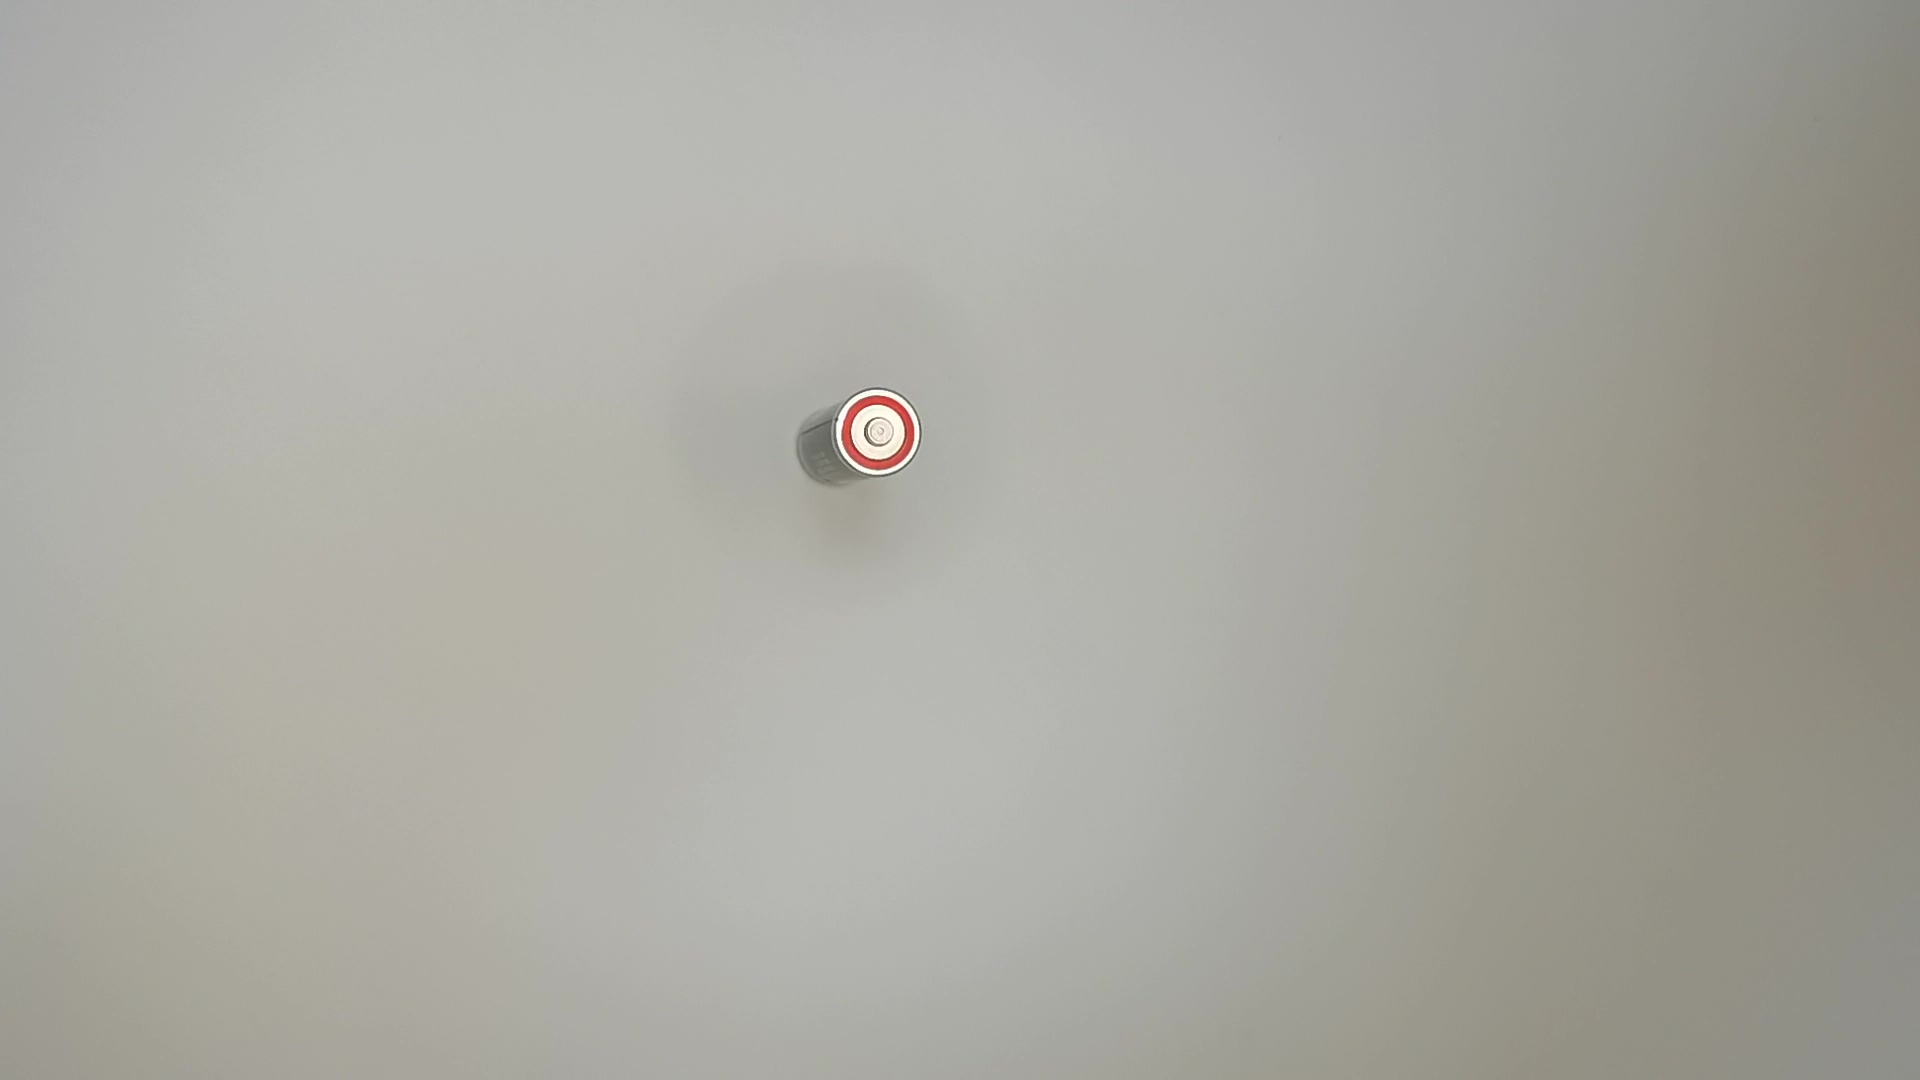battery: (791, 386, 923, 491)
